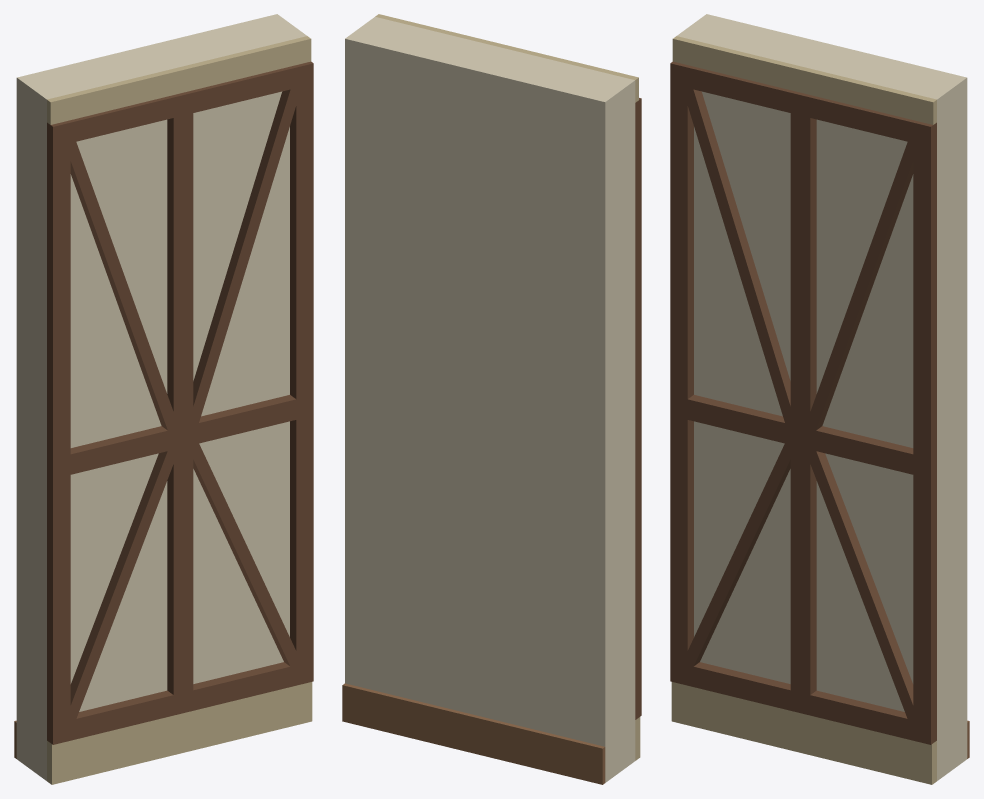
Rendered from rpg-mansion-half-timbered-infill-bay-01.glb.
3 views of the same model, side by side, from view 1: azimuth 30°, elevation 25°; view 2: azimuth 150°, elevation 25°; view 3: azimuth 330°, elevation 25° (orthographic).
Parts seen in each view (by area): view 1: rpg-mansion-half-timbered-infill-bay-01; view 2: rpg-mansion-half-timbered-infill-bay-01; view 3: rpg-mansion-half-timbered-infill-bay-01.
Boxes of the visible parts, x1,y1,x2,y2 form: rpg-mansion-half-timbered-infill-bay-01: (14,14,313,784); rpg-mansion-half-timbered-infill-bay-01: (342,14,641,784); rpg-mansion-half-timbered-infill-bay-01: (670,14,969,784).
Size of the model in its own units: 1.2 by 3 by 0.31.
